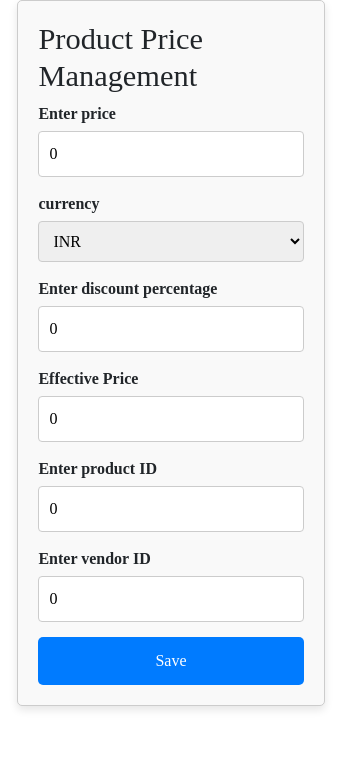
Test: PriceForm › handles form submission error
The image size is (343, 768).
Replace the text in the field with placeholder "Enter price" with "1000" at (171,154), box x1=38 y1=131 x2=304 y2=177
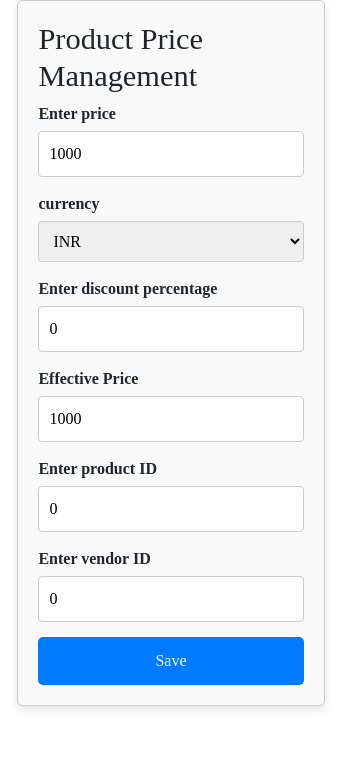
Replace the text in the field with placeholder "Enter discount percentage" with "10" at (171,329), box x1=38 y1=306 x2=304 y2=352
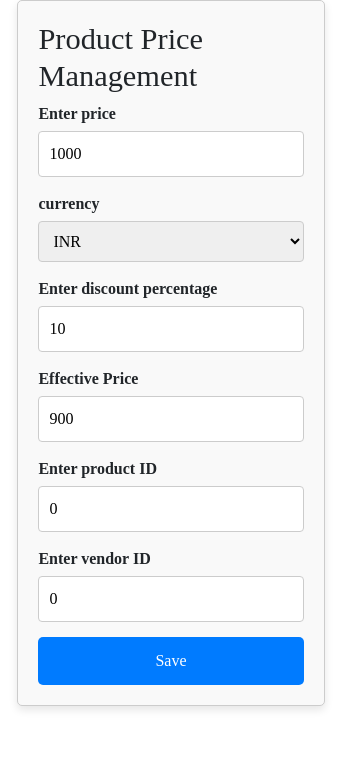
Replace the text in the field with placeholder "Enter product ID" with "12345" at (171,509), box x1=38 y1=486 x2=304 y2=532
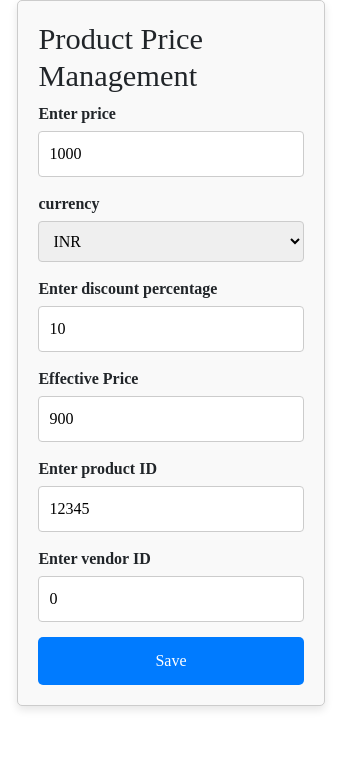
Replace the text in the field with placeholder "Enter vendor ID" with "67890" at (171,599), box x1=38 y1=576 x2=304 y2=622
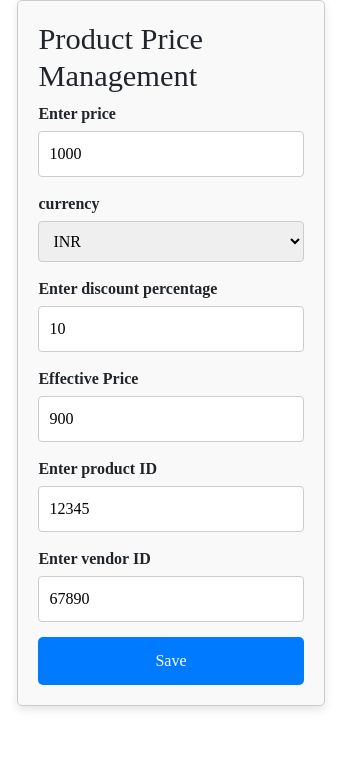
Select "USD" in the dropdown showing "INR" at (171,242), box x1=38 y1=221 x2=304 y2=262
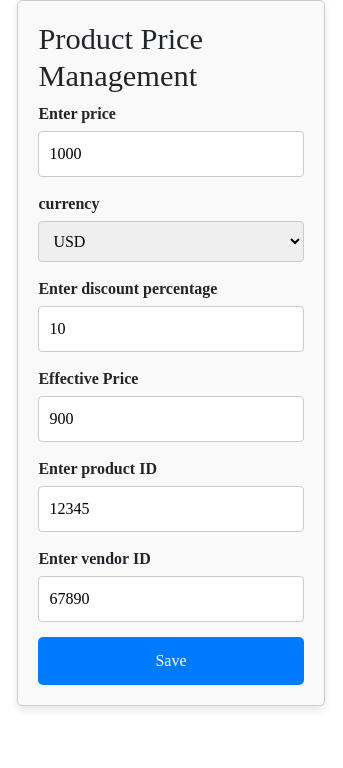
Click the button "Save".
click(171, 661)  # box x1=38 y1=637 x2=304 y2=685
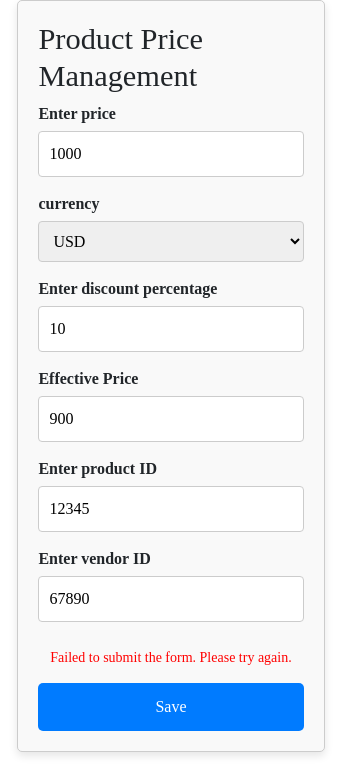
Result: the text "Failed to submit the form. Please try again." is shown at x1=38 y1=647 x2=304 y2=668
